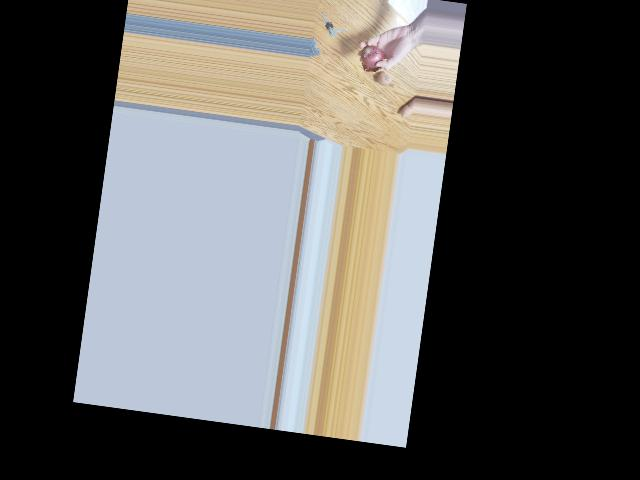onion: (377, 70, 394, 88)
